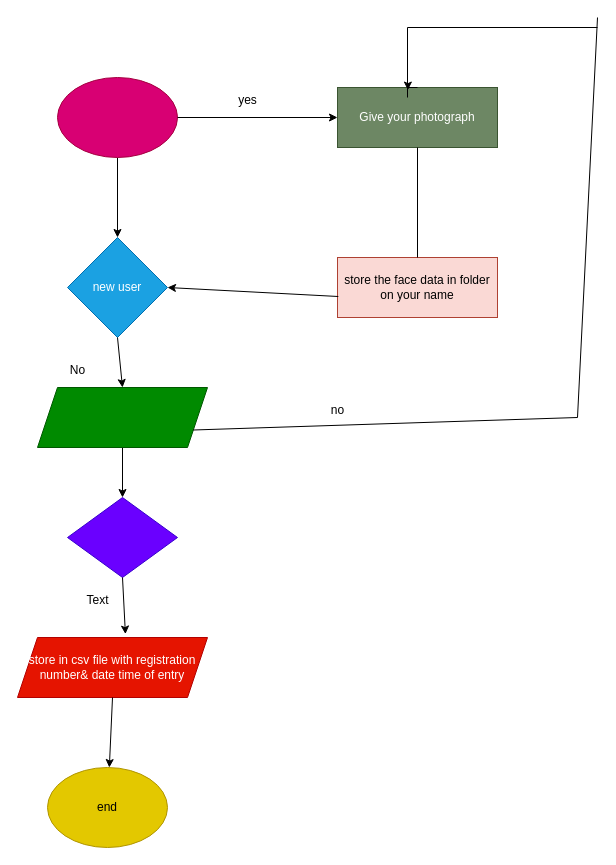
Some shapes in this 616 by 865 pixel diagram are drawn without their labels. The centre of each missing label's shape, as x and y in pixels:
"face recongnization" belongs at point 122,537.
"recongnize the face" belongs at point 122,417.
"Start" belongs at point 117,117.
